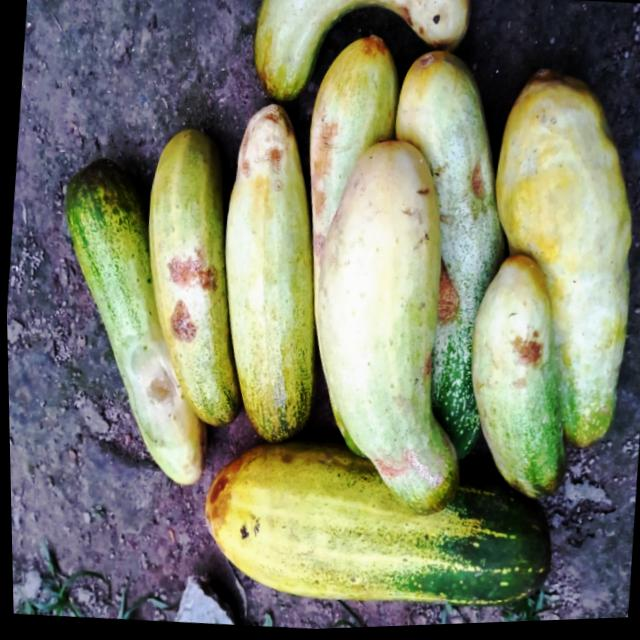Belly-Rot: (155, 242, 224, 352), (300, 115, 345, 268), (231, 102, 295, 184), (365, 442, 448, 502), (197, 460, 244, 544), (425, 262, 465, 343), (505, 323, 548, 388), (137, 361, 181, 416), (459, 157, 492, 228), (392, 3, 429, 41)
